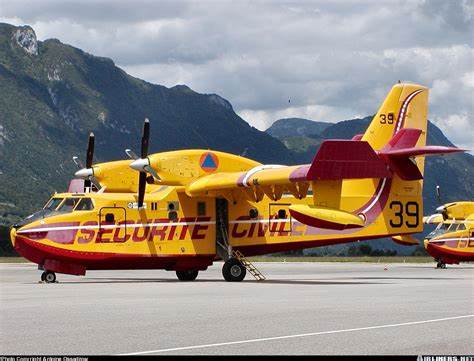Aeronef_de_service: (7, 79, 472, 284), (390, 181, 474, 283)
